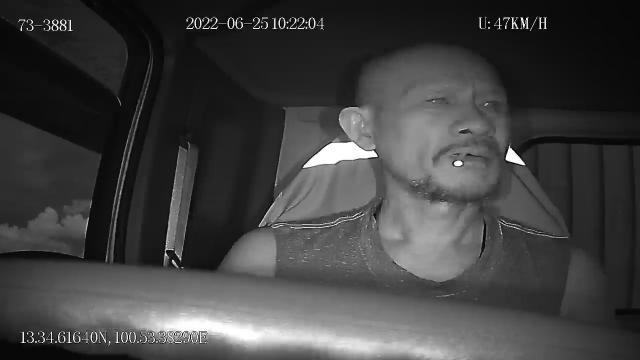SafeDriving: (414, 86, 459, 113), (471, 91, 508, 117)
Smoking: (452, 152, 466, 167)
